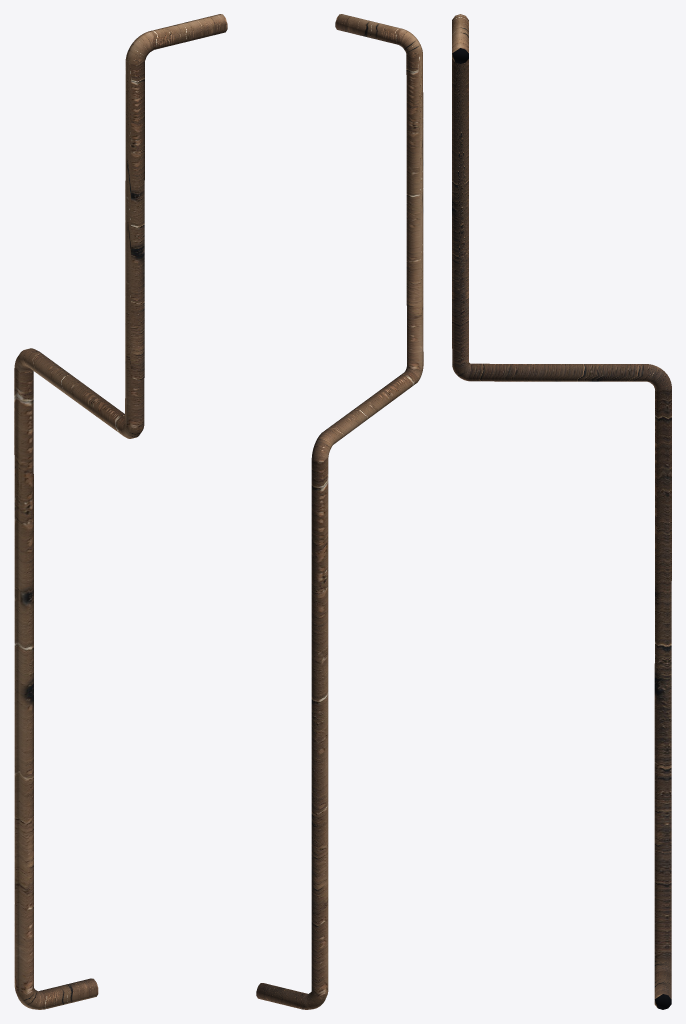
File: wallPipe4_300.fbx
3 views of the same model, side by side, from view 1: azimuth 30°, elevation 25°; view 2: azimuth 150°, elevation 25°; view 3: azimuth 270°, elevation 25° (orthographic). The views are drawn at different scales.
Parts seen in each view (by area): view 1: pipeC200; view 2: pipeC200; view 3: pipeC200.
Part boxes in pixels (x1=…): pipeC200: x1=14, y1=14, x2=227, y2=1009; pipeC200: x1=256, y1=14, x2=423, y2=1009; pipeC200: x1=452, y1=14, x2=671, y2=1009.
Size of the model in its own units: 0.5273 by 5.53 by 1.14.
